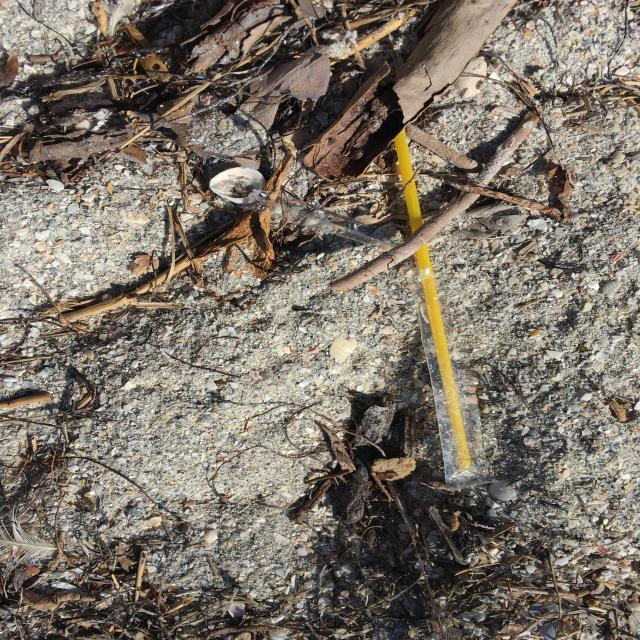litter: (389, 126, 491, 489)
